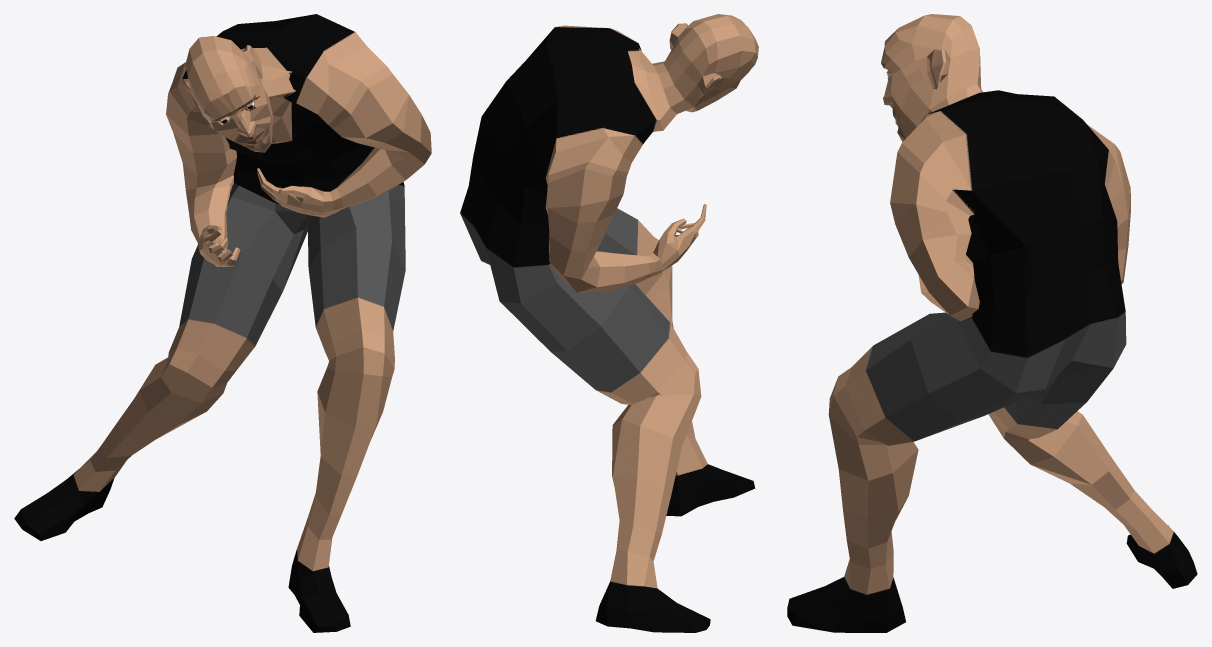
File: PlayerDead(28).obj
3 renders of one model, left to right at view 1: azimuth 30°, elevation 25°; view 2: azimuth 150°, elevation 25°; view 3: azimuth 270°, elevation 25°, orthographic. The views are drawn at different scales.
Visible parts, largest first — view 1: Plane002; view 2: Plane002; view 3: Plane002.
Boxes of the visible parts, x1,y1,x2,y2 form: Plane002: [14, 14, 431, 632]; Plane002: [460, 14, 758, 632]; Plane002: [787, 14, 1197, 632].
Size of the model in its own units: 779 by 1331 by 857.
